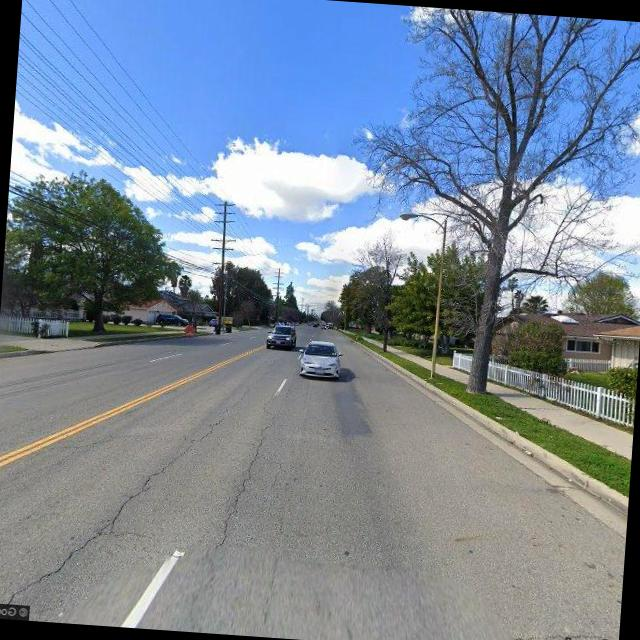crack: (5, 390, 232, 620), (216, 405, 280, 552)
